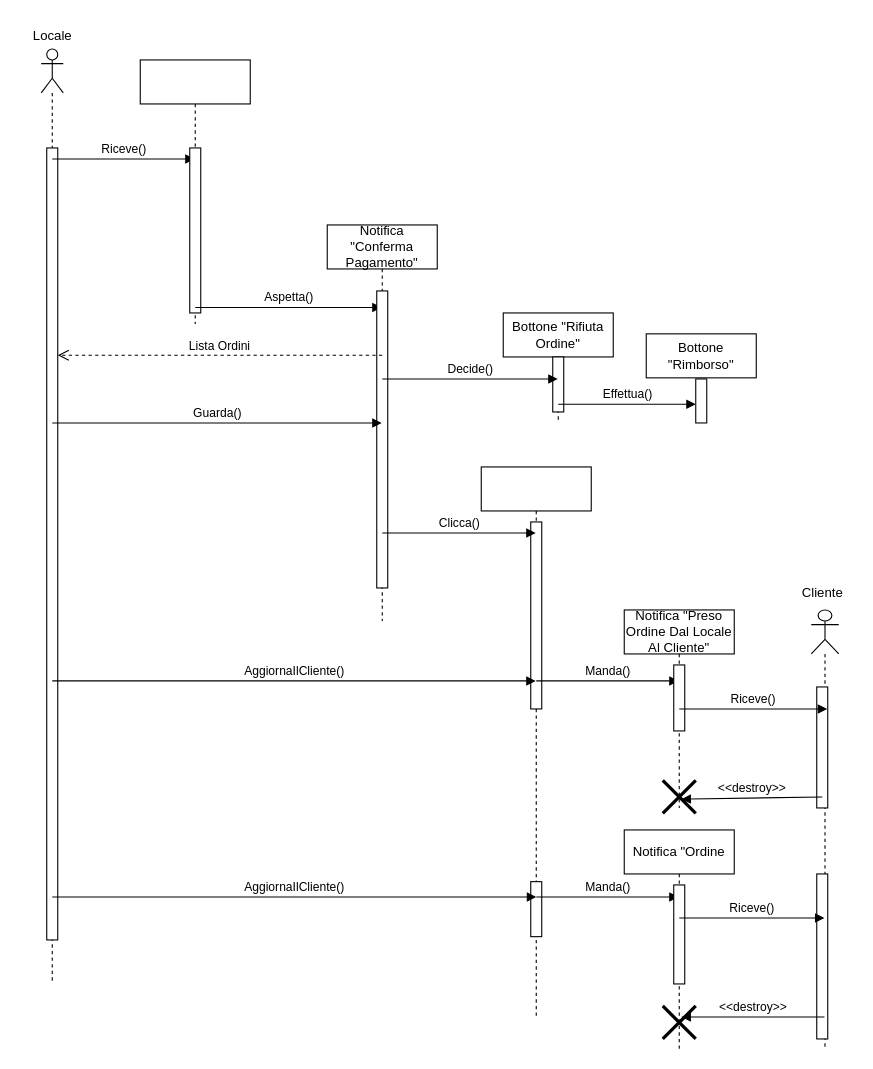
The diagram is 873 pixels wide and 1069 high, and some of its shapes have lost their labels. The box of each missing label's shape, as (x1, y1, x2, y2) in pixels:
Bottone "Accetta Ordine": (480, 466, 591, 1017)
Notifica "Ordine Ricevuto Cliente": (139, 59, 250, 324)
